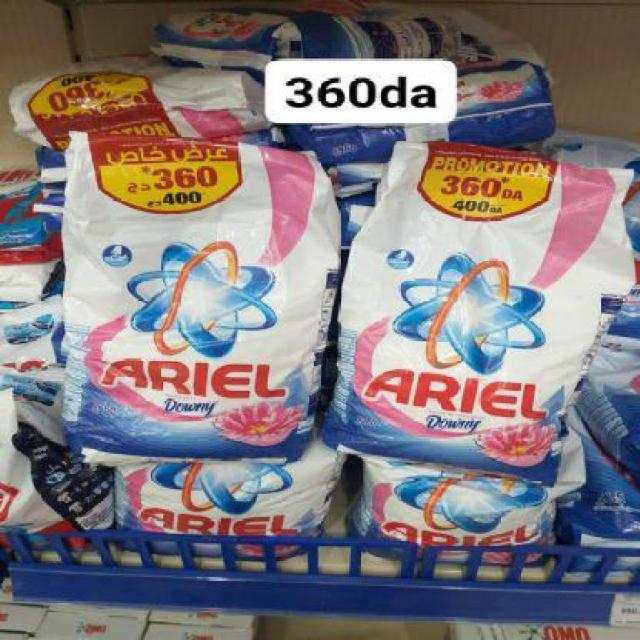Detergent: (44, 120, 348, 454), (332, 147, 590, 467), (98, 453, 336, 552), (354, 456, 557, 553)
